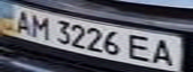2: (84, 25, 106, 55), (66, 21, 87, 51)
3: (51, 18, 75, 46)
6: (103, 28, 127, 57)
A: (148, 37, 184, 69), (6, 8, 36, 35)
E: (124, 33, 157, 62)
M: (27, 12, 54, 41)
